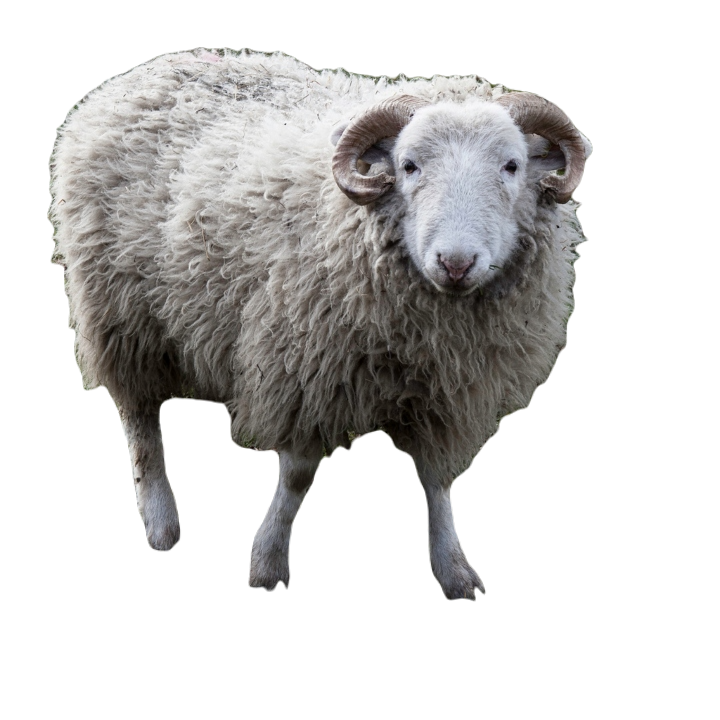Sheep: (44, 37, 597, 608)
